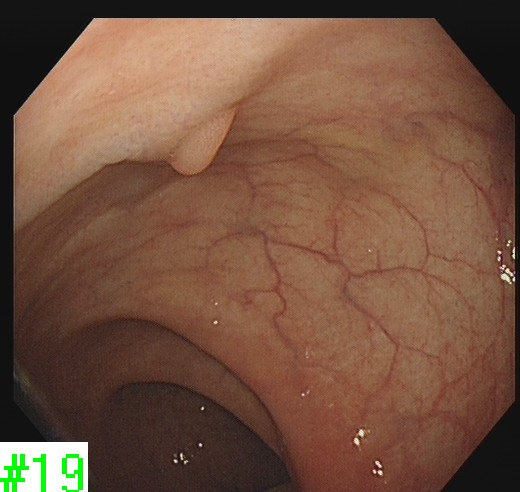others: (166, 108, 233, 178)
